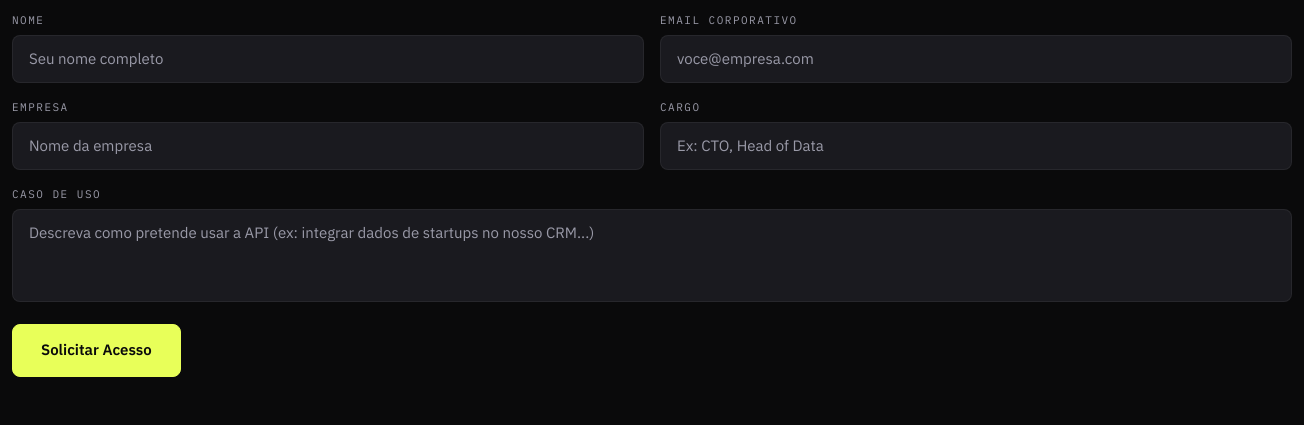
ApiAccessForm › shows validation error for short use case
Type "Ana" into the field labelled "Nome". click: (328, 59)
box: [12,34,644,83]
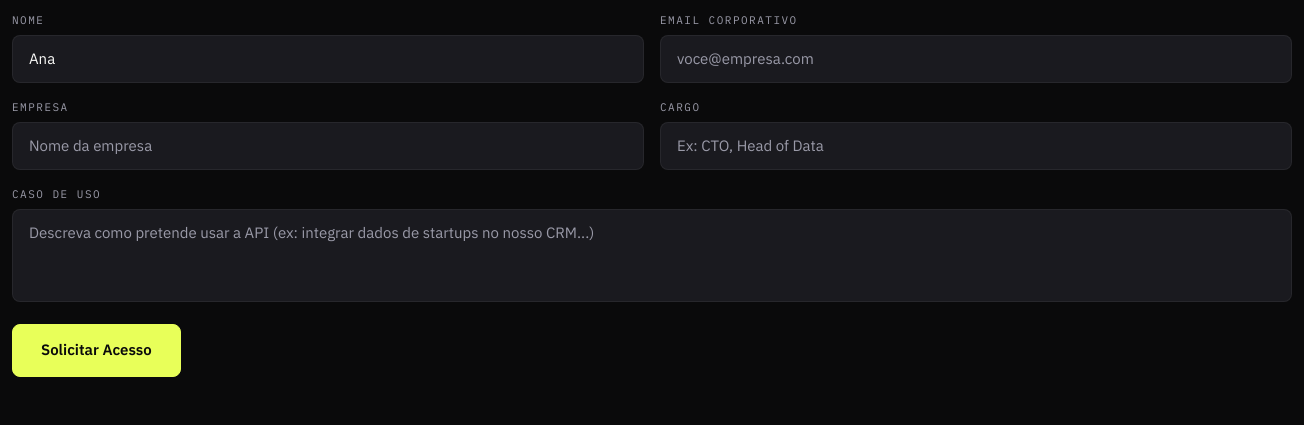
Type "ana@empresa.com" into the field labelled "Email corporativo". click: (976, 59)
box: [660,34,1292,83]
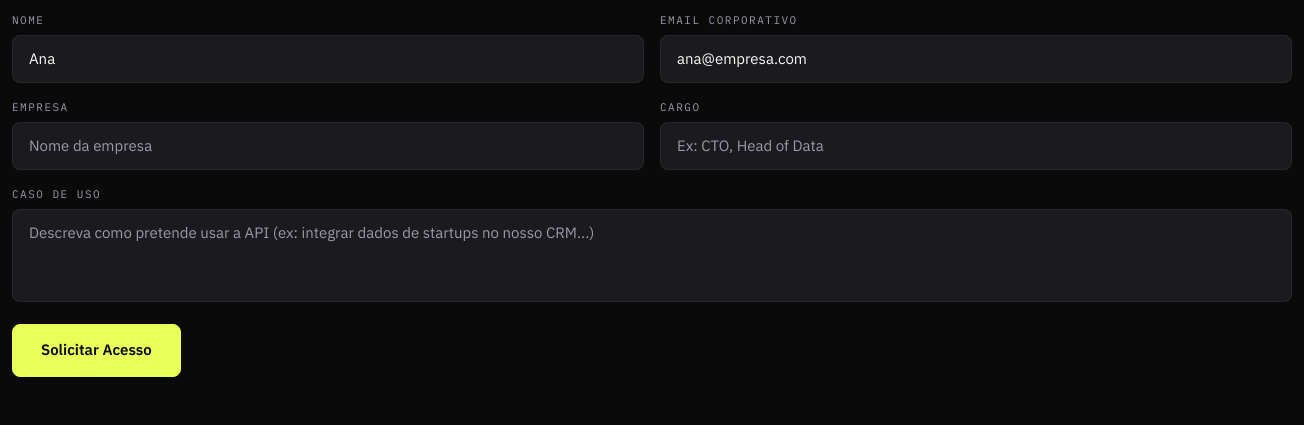
Type "TechCo" into the field labelled "Empresa". click: (328, 146)
box: [12,122,644,170]
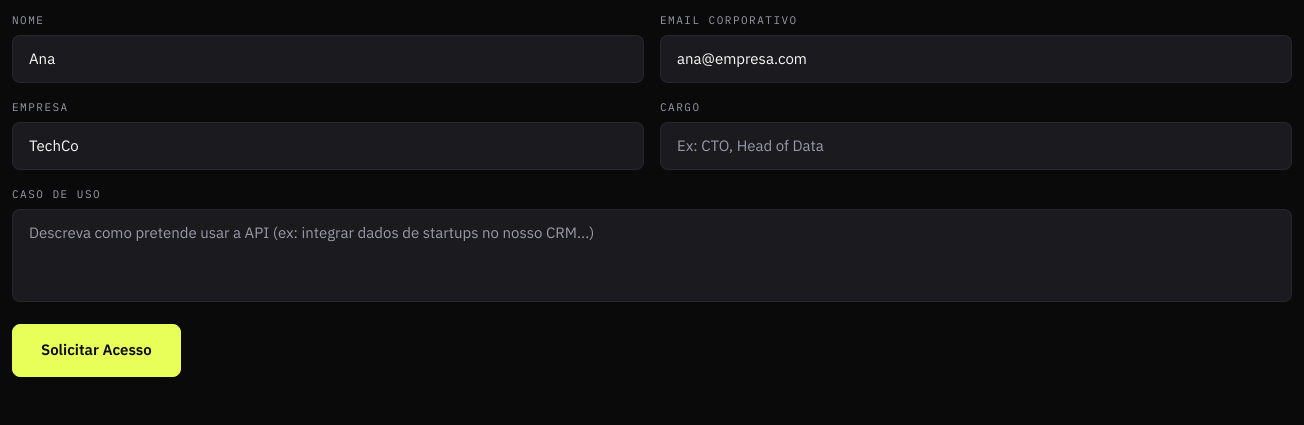
Type "CTO" into the field labelled "Cargo". click: (976, 146)
box: [660,122,1292,170]
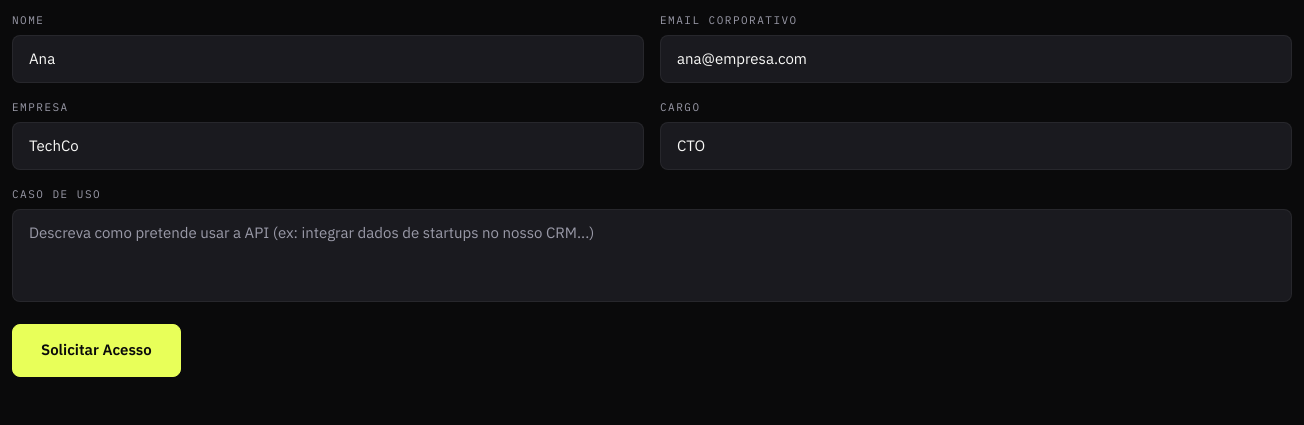
Replace the text in the text box labelled "Caso de uso" with "short". click: (652, 255)
box: [12,208,1292,302]
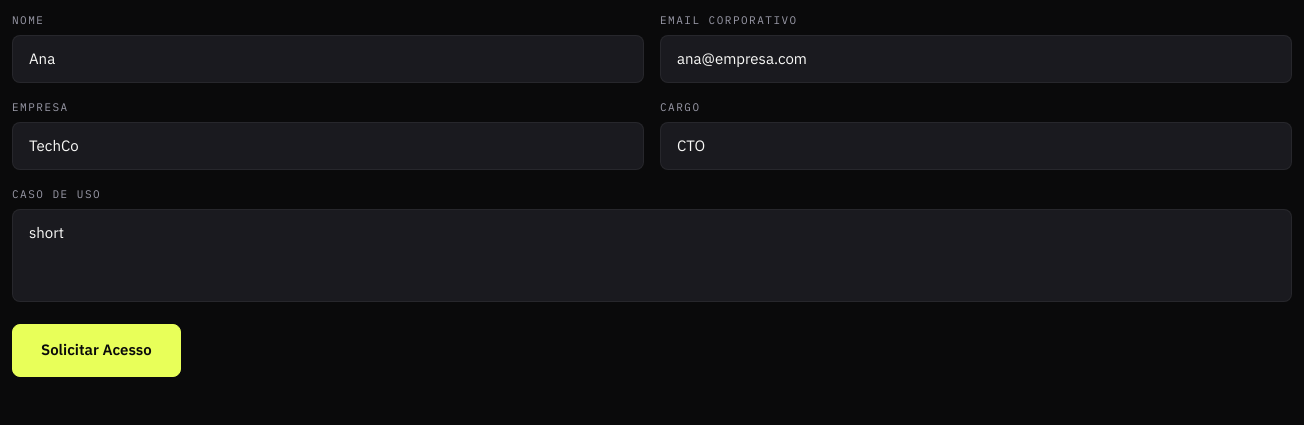
Submit the form "Solicitar Acesso"
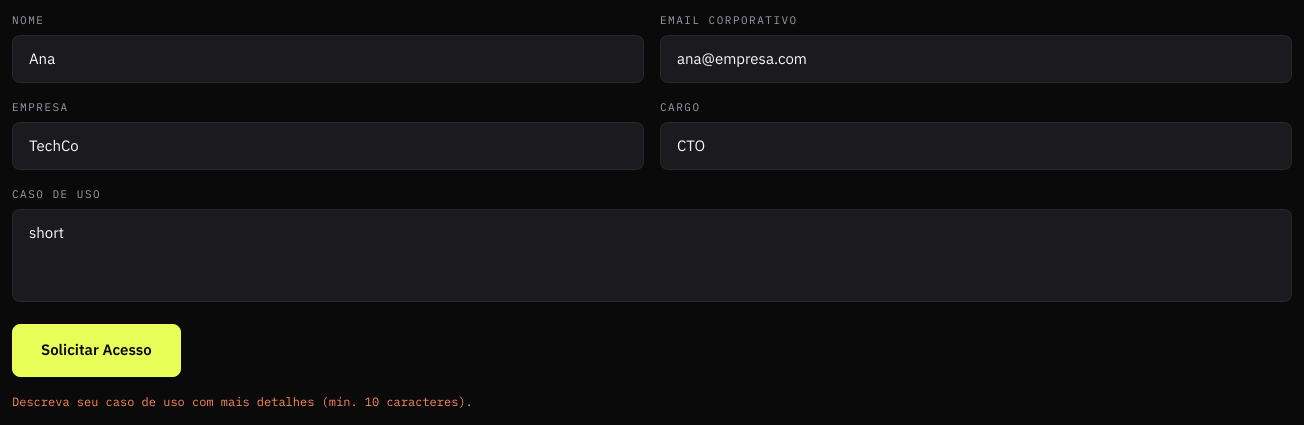
Now the text "mais detalhes" is shown, box [12,394,473,408]
